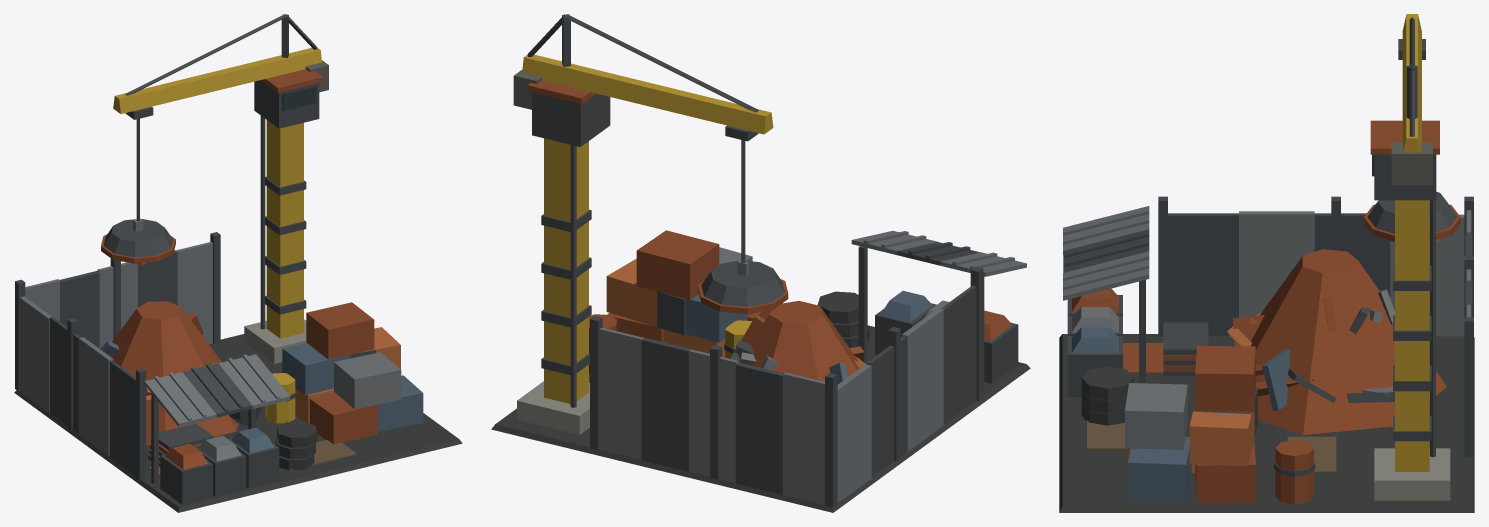
File: scrapyard_l2.glb
3 renders of one model, left to right at view 1: azimuth 30°, elevation 25°; view 2: azimuth 150°, elevation 25°; view 3: azimuth 270°, elevation 25°, orthographic. The views are drawn at different scales.
Parts seen in each view (by area): view 1: scrapyard_structure, scrapyard_heaps, scrapyard_props; view 2: scrapyard_structure, scrapyard_props, scrapyard_heaps; view 3: scrapyard_structure, scrapyard_heaps, scrapyard_props.
Part boxes in pixels (bbox=[...]): scrapyard_structure: bbox=[14, 14, 462, 512]; scrapyard_heaps: bbox=[100, 301, 290, 504]; scrapyard_props: bbox=[101, 107, 423, 470]; scrapyard_structure: bbox=[491, 14, 1030, 512]; scrapyard_props: bbox=[570, 125, 869, 407]; scrapyard_heaps: bbox=[730, 231, 1026, 384]; scrapyard_structure: bbox=[1059, 14, 1474, 512]; scrapyard_heaps: bbox=[1063, 206, 1446, 434]; scrapyard_props: bbox=[1081, 39, 1460, 504].
Size of the model in its own units: 6 by 6.79 by 6.
